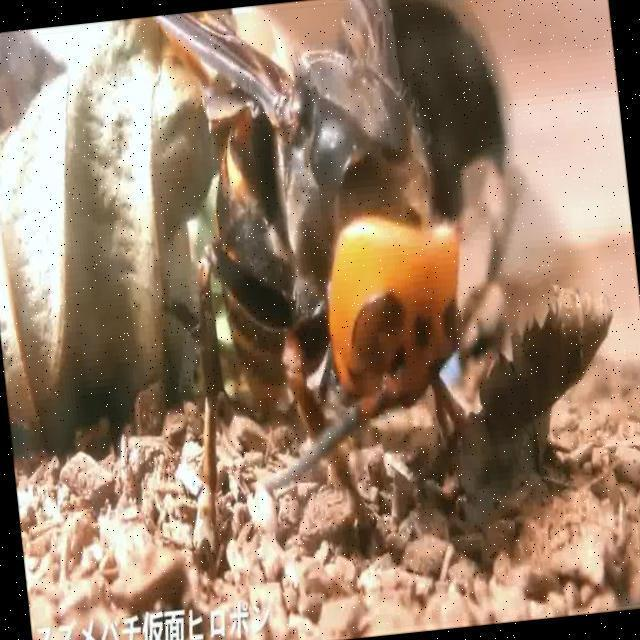Wasp: (162, 12, 479, 478)
